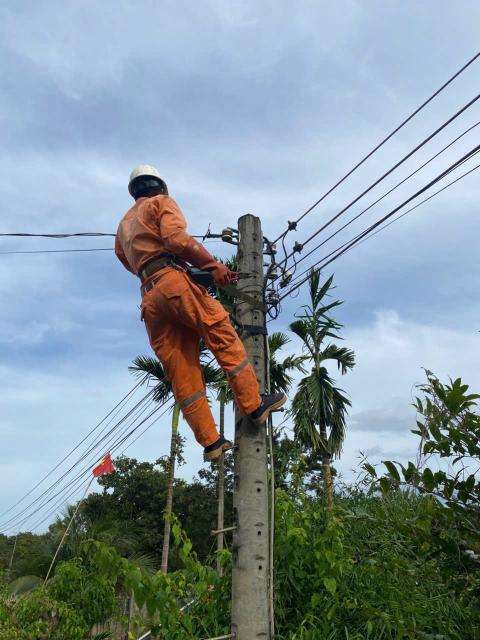gloves: (200, 252, 248, 295)
harness: (118, 251, 212, 276)
helmet: (123, 161, 172, 214)
shoes: (234, 382, 299, 430), (194, 427, 243, 463)
